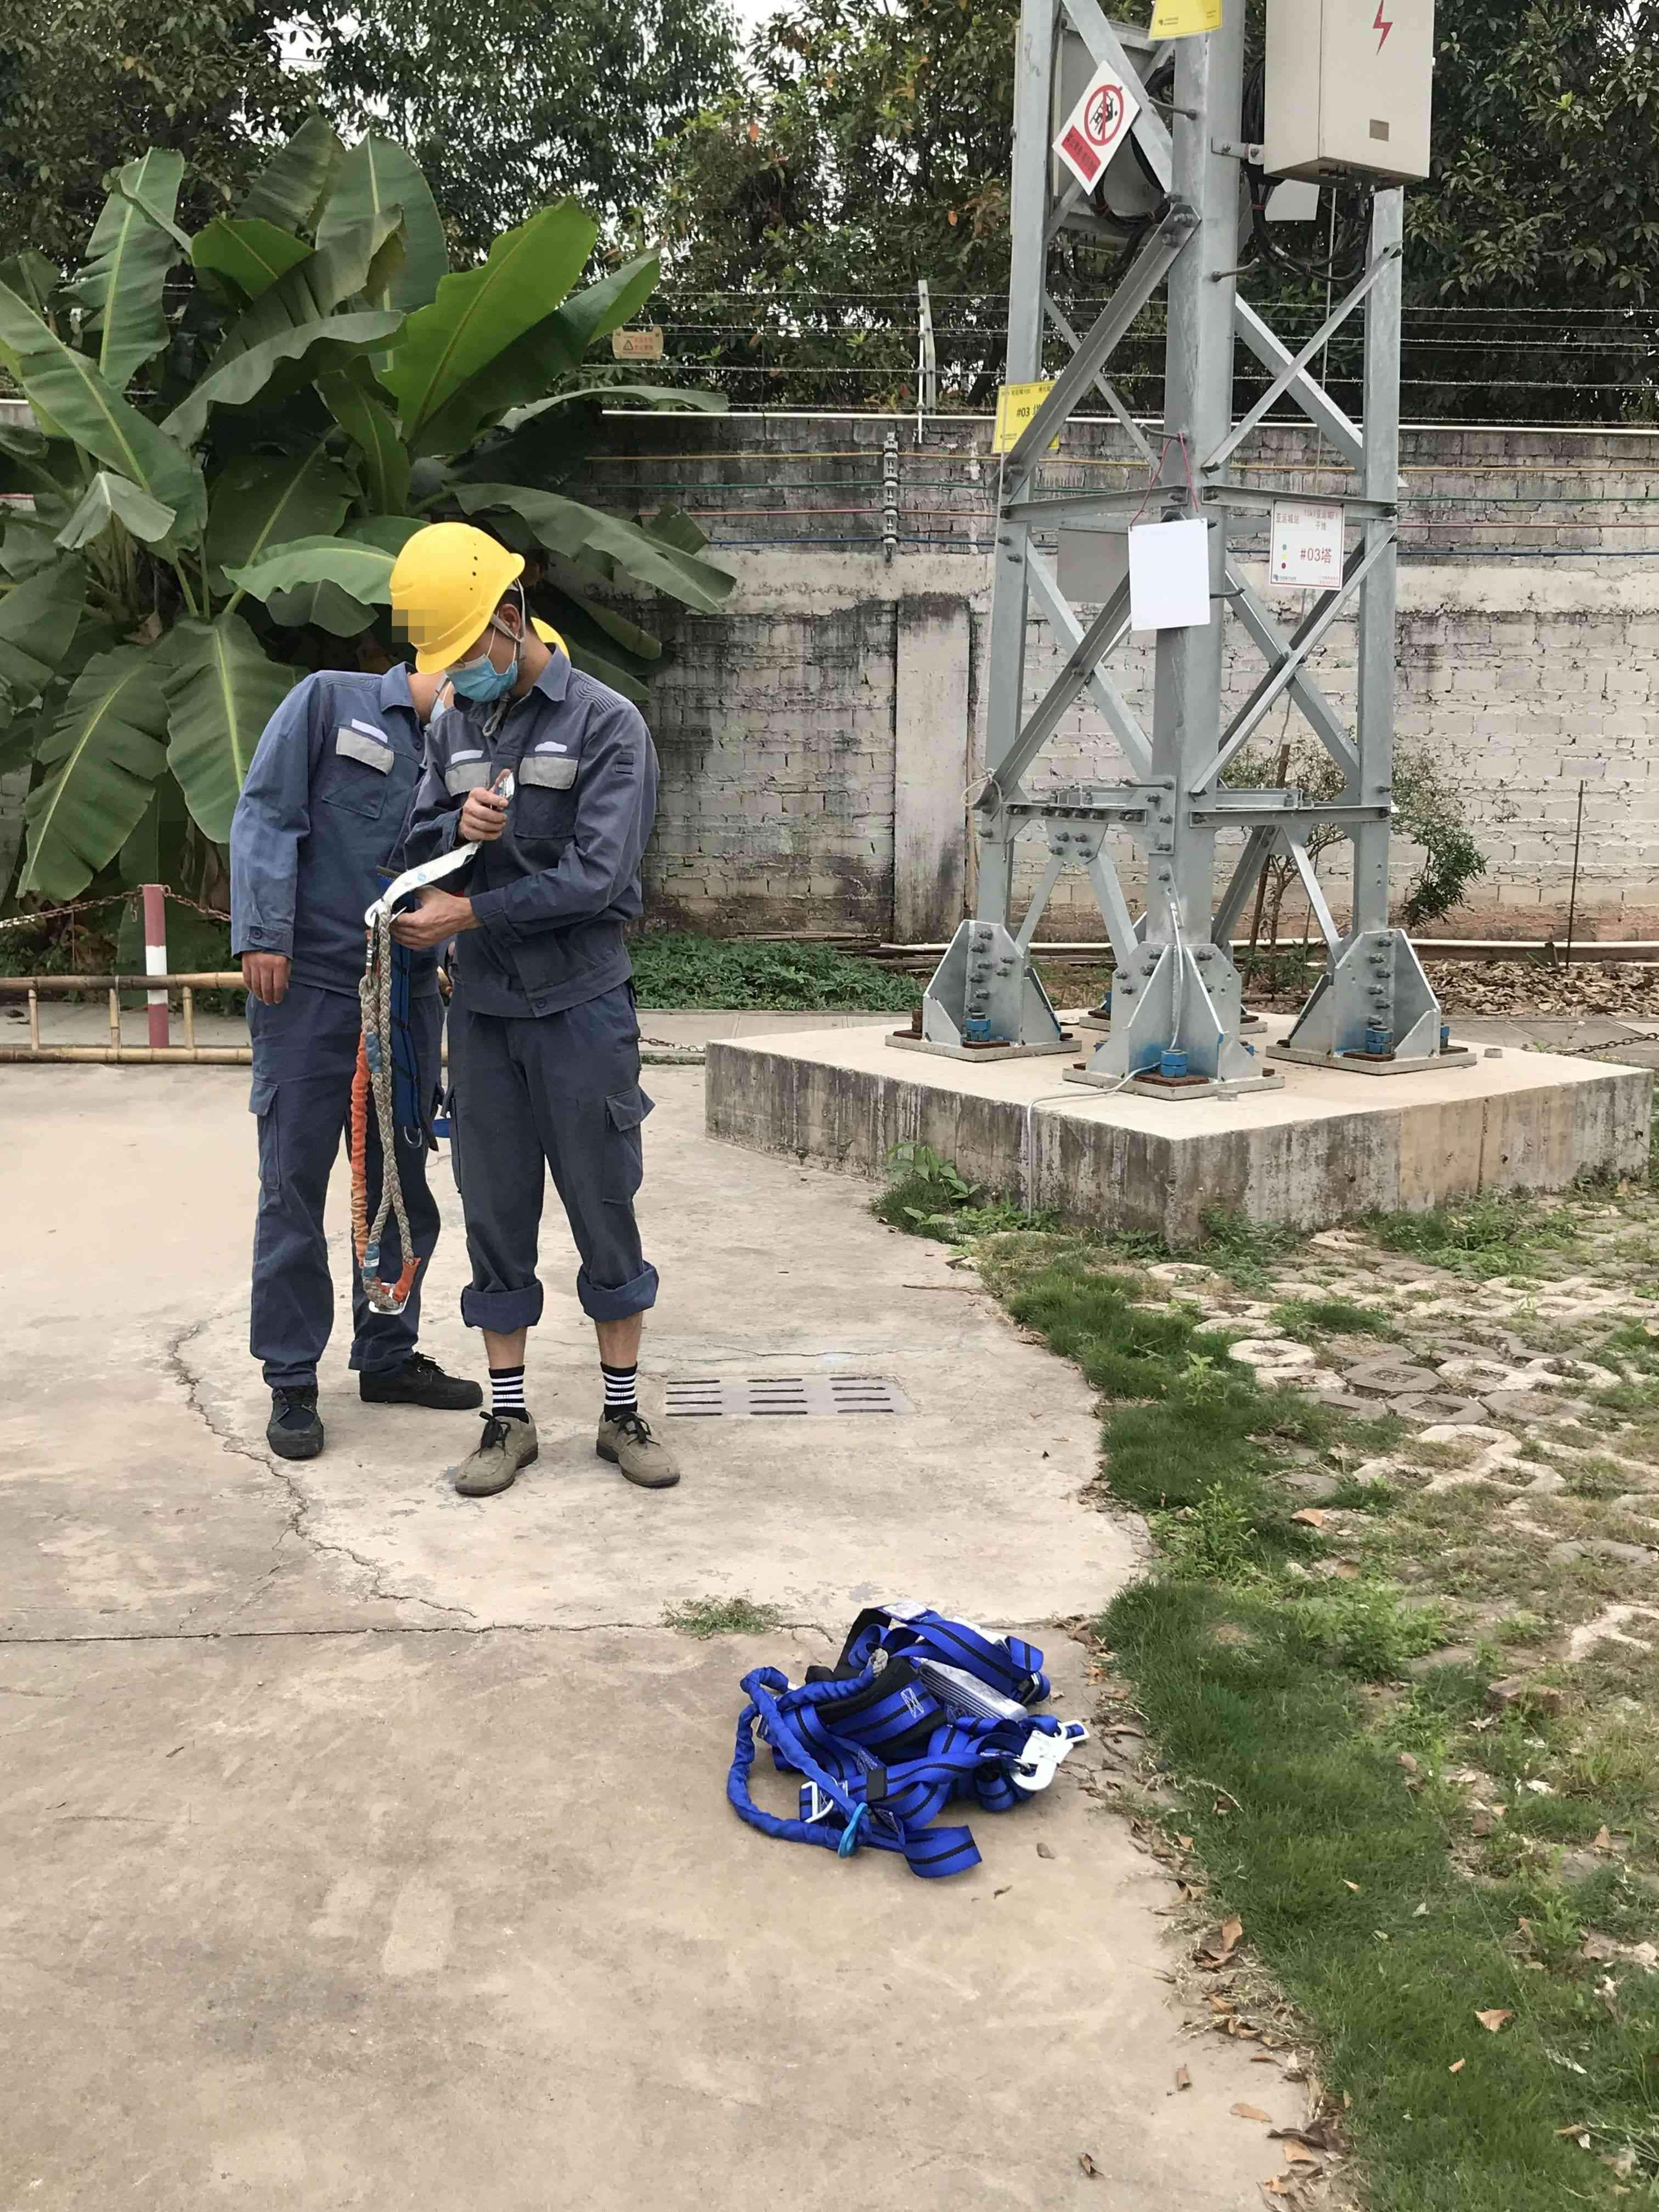downsuit: (242, 977, 443, 1388), (436, 1036, 676, 1334)
upsuit: (396, 662, 662, 993), (227, 665, 455, 1003)
wrongbottom: (580, 1270, 660, 1418), (460, 1284, 551, 1413)
